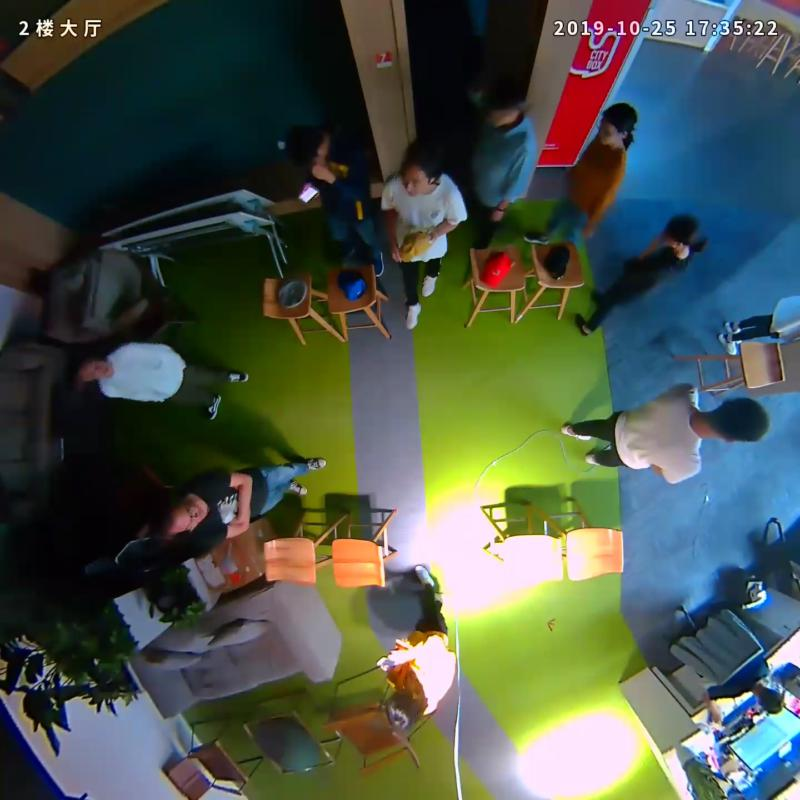head: (142, 489, 205, 536), (710, 397, 770, 444), (285, 126, 333, 173), (479, 82, 527, 128), (401, 143, 440, 197), (596, 101, 638, 148), (384, 687, 425, 734), (665, 212, 702, 252), (71, 355, 114, 383)
